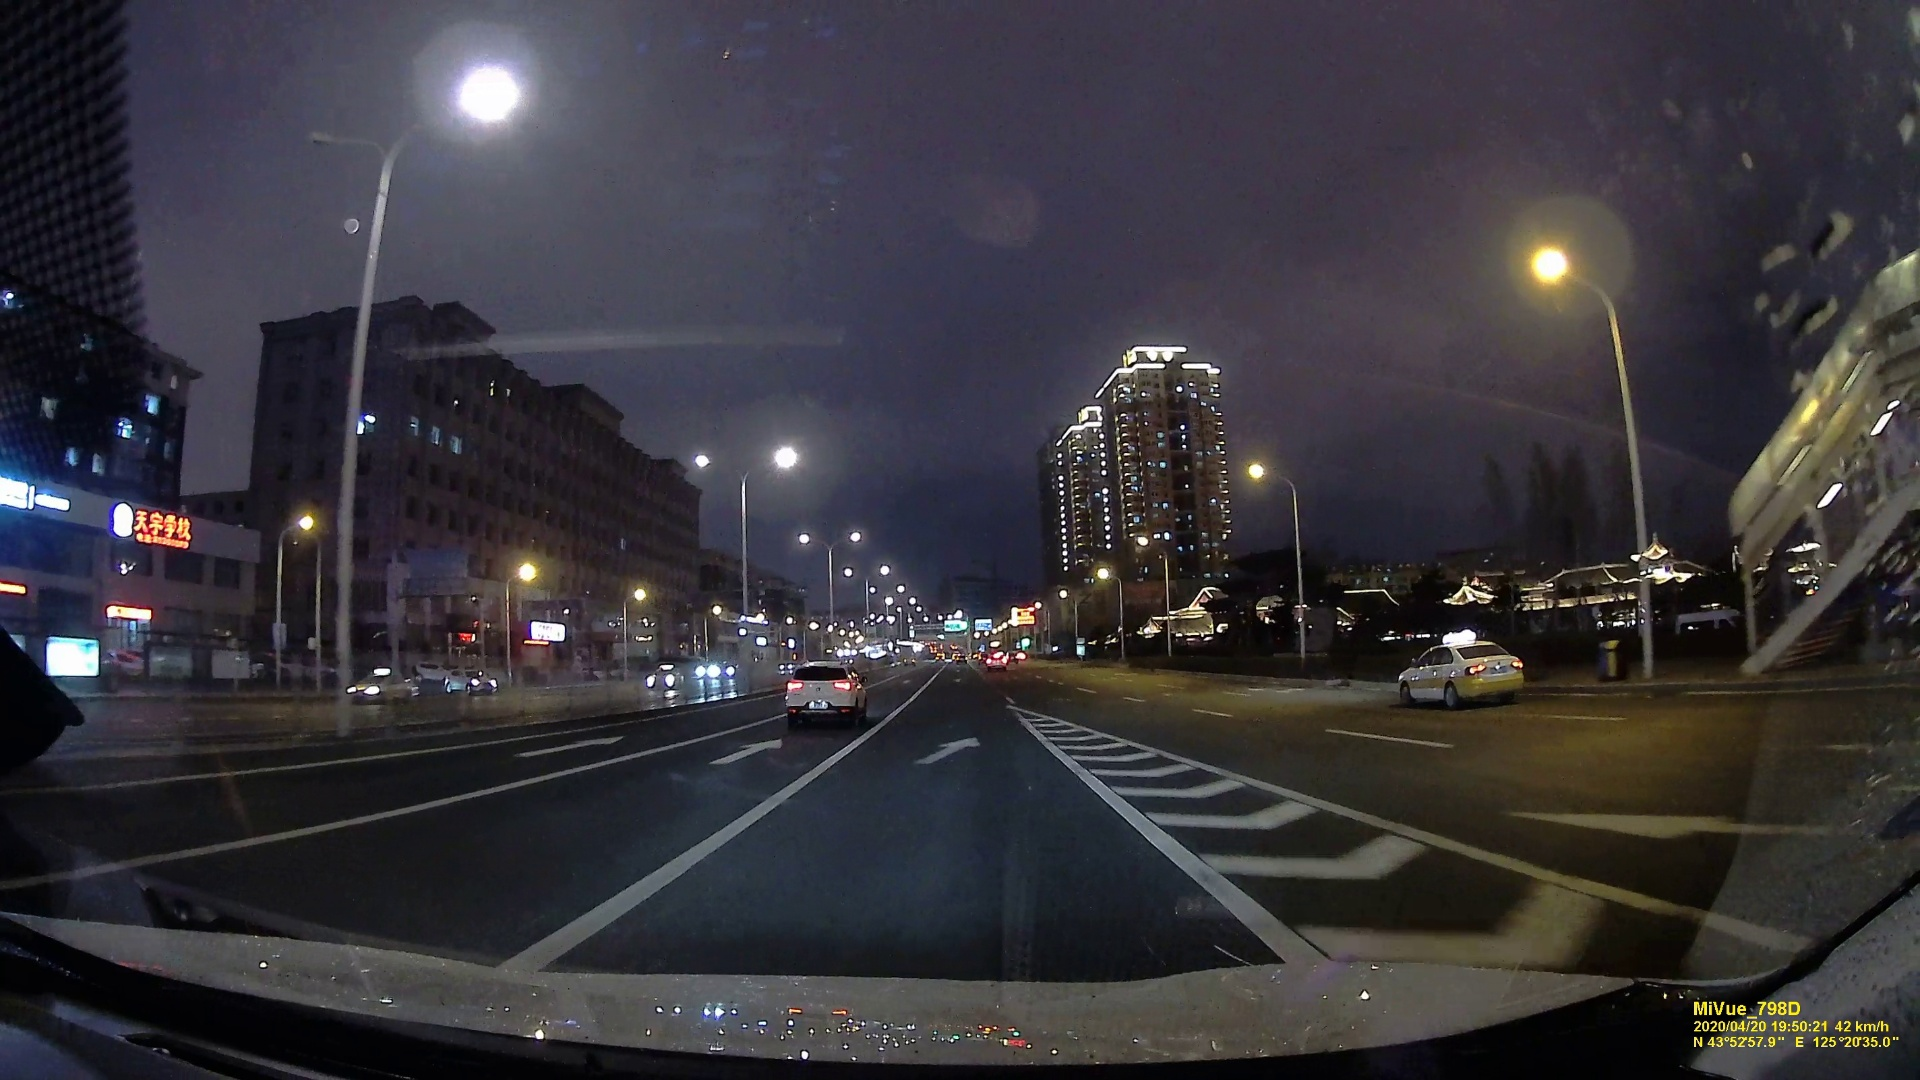vehicle: (1402, 638, 1527, 711), (785, 661, 866, 727), (344, 667, 418, 702), (446, 667, 492, 692), (645, 667, 684, 688), (985, 654, 1009, 671)
